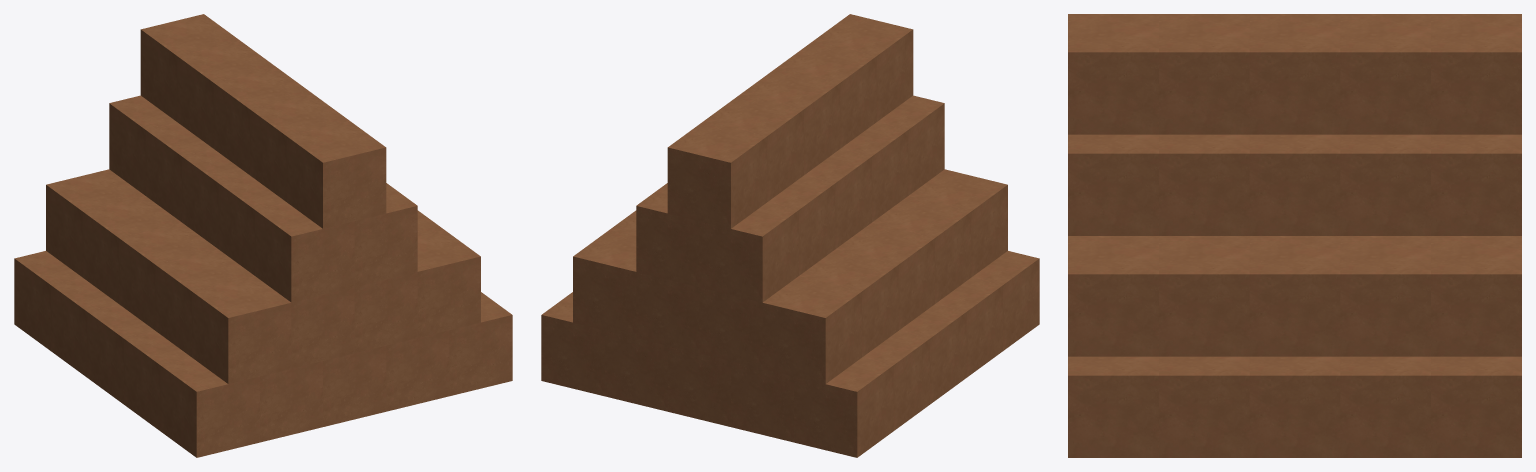
The model's file is basic.glb.
3 views of the same model, side by side, from view 1: azimuth 30°, elevation 25°; view 2: azimuth 150°, elevation 25°; view 3: azimuth 270°, elevation 25° (orthographic). The views are drawn at different scales.
Parts seen in each view (by area): view 1: Cube.064, Cube.038, Cube.025, Cube.058, Cube.049, Cube.060, Cube.059, Cube.036, Cube.032, Cube.034, Cube.061, Cube.063 (+16 smaller); view 2: Cube.060, Cube.030, Cube, Cube.050, Cube.041, Cube.064, Cube.051, Cube.032, Cube.034, Cube.036, Cube.061, Cube.063 (+16 smaller); view 3: Cube.045, Cube.062, Cube.041, Cube.043, Cube.047, Cube.049, Cube.060, Cube.061, Cube.063, Cube.064, Cube.019, Cube.055 (+8 smaller).
Boxes of the visible parts, x1,y1,x2,y2 form: Cube.064: (286,120,386,228); Cube.038: (192,276,291,383); Cube.025: (160,357,259,457); Cube.058: (255,202,354,302); Cube.049: (417,230,480,337); Cube.060: (140,14,239,121); Cube.059: (354,183,417,286); Cube.036: (155,249,254,357); Cube.032: (82,196,181,303); Cube.034: (119,222,217,330); Cube.061: (177,40,276,148); Cube.063: (250,94,349,201); Cube.060: (667,120,767,228); Cube.030: (762,276,861,383); Cube: (794,357,893,457); Cube.050: (699,202,798,302); Cube.041: (573,230,636,337); Cube.064: (814,14,913,121); Cube.051: (636,183,699,286); Cube.032: (799,249,898,357); Cube.034: (836,222,934,330); Cube.036: (872,196,971,303); Cube.061: (704,94,803,201); Cube.063: (777,40,876,148); Cube.045: (1249,236,1340,356); Cube.062: (1249,14,1340,134); Cube.041: (1431,236,1521,356); Cube.043: (1340,236,1430,356); Cube.047: (1159,236,1249,356); Cube.049: (1068,236,1158,356); Cube.060: (1431,14,1521,134); Cube.061: (1340,14,1430,134); Cube.063: (1159,14,1249,134); Cube.064: (1068,14,1158,134); Cube.019: (1249,356,1340,457); Cube.055: (1249,134,1340,235).
Bounding box in the file's own units: 5 × 4 × 5.
1 material, 1 textured.
